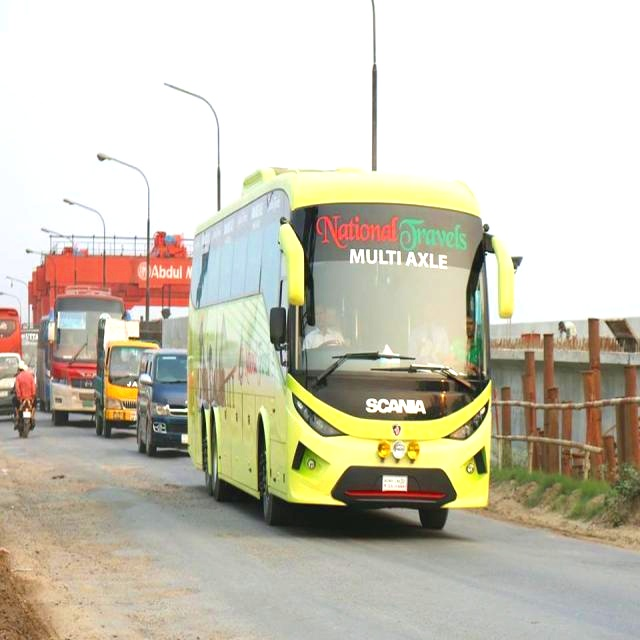bus: (165, 163, 532, 549), (22, 283, 131, 437)
